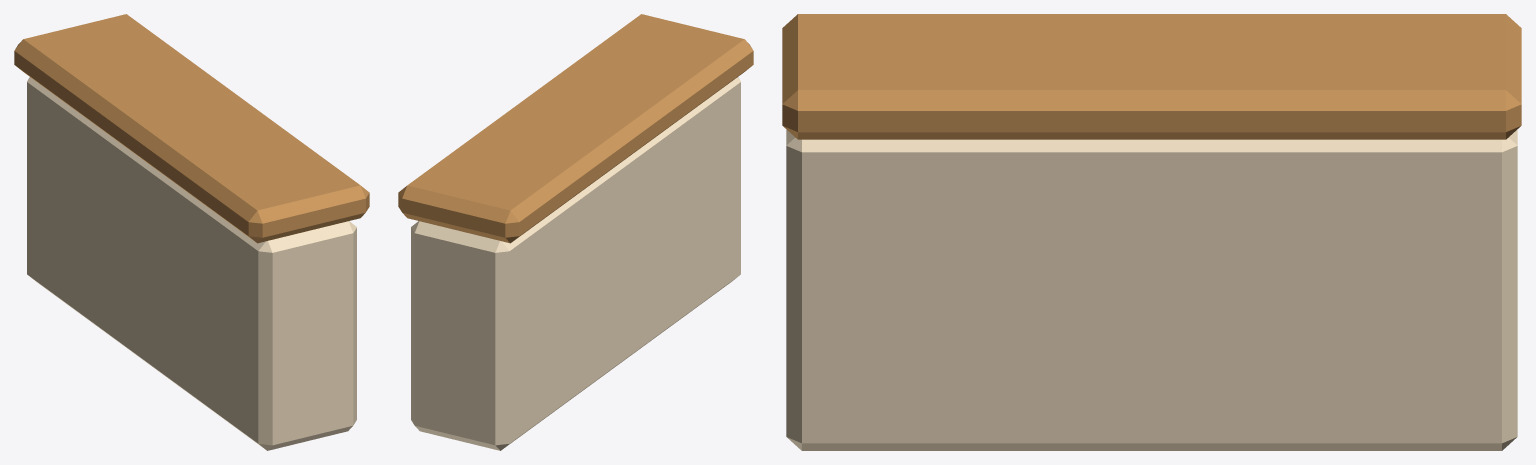
File: mod_wall_curved_r2.62_n18_lip.glb
3 views of the same model, side by side, from view 1: azimuth 30°, elevation 25°; view 2: azimuth 150°, elevation 25°; view 3: azimuth 270°, elevation 25° (orthographic). The views are drawn at different scales.
Parts seen in each view (by area): view 1: mod_wall_curved_r2.62_n18_lip; view 2: mod_wall_curved_r2.62_n18_lip; view 3: mod_wall_curved_r2.62_n18_lip.
Part boxes in pixels (<box>): mod_wall_curved_r2.62_n18_lip: <box>14,14,369,450</box>; mod_wall_curved_r2.62_n18_lip: <box>398,14,753,450</box>; mod_wall_curved_r2.62_n18_lip: <box>782,14,1521,450</box>.
Bounding box in the file's own units: 0.27 × 0.52 × 0.944.
